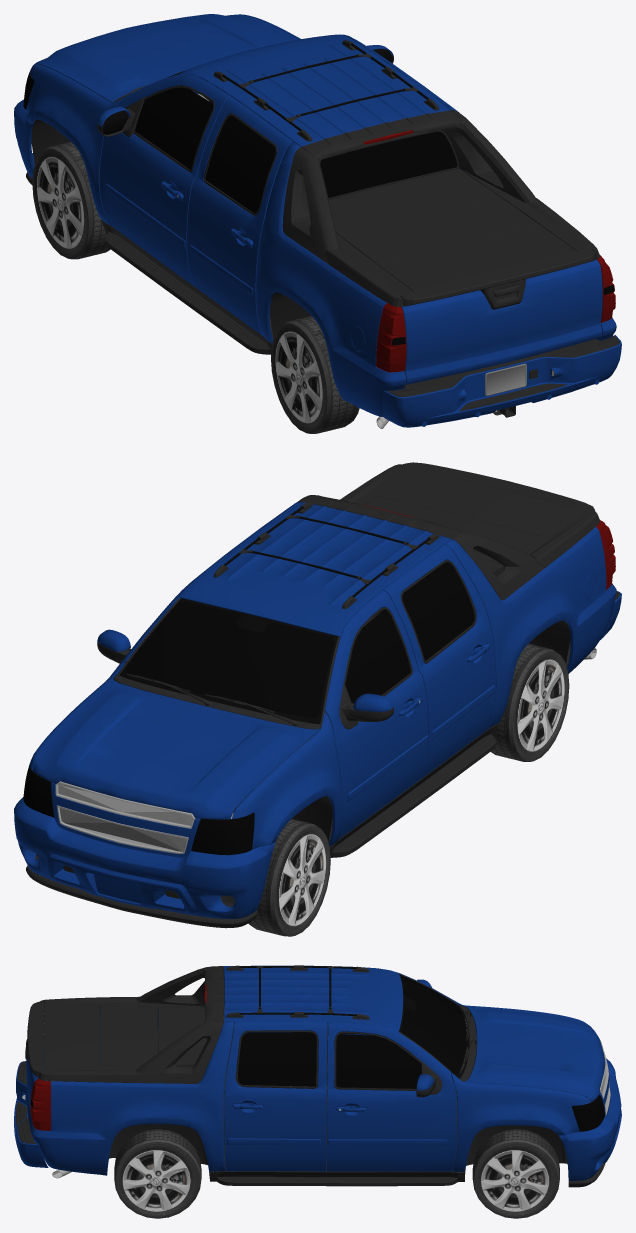
Rendered from Chevrolet Avalanche blue.FBX.
The picture shows the model from 3 angles, top to bottom: view 1: azimuth 30°, elevation 25°; view 2: azimuth 150°, elevation 25°; view 3: azimuth 270°, elevation 25°; orthographic projection. The views are drawn at different scales.
Parts seen in each view (by area): view 1: object03, Cylinder014, Cylinder011; view 2: object03, Cylinder011, Cylinder014; view 3: object03, Cylinder013, Cylinder012.
Part boxes in pixels (x1,y1,x2,y2): object03: (14,14,621,428); Cylinder014: (271,315,359,433); Cylinder011: (32,141,110,259); object03: (14,462,621,928); Cylinder011: (248,818,330,936); Cylinder014: (490,643,569,761); object03: (14,965,621,1187); Cylinder013: (114,1129,201,1218); Cylinder012: (472,1129,559,1218).
Bounding box in the file's own units: 235 × 193 × 563.
